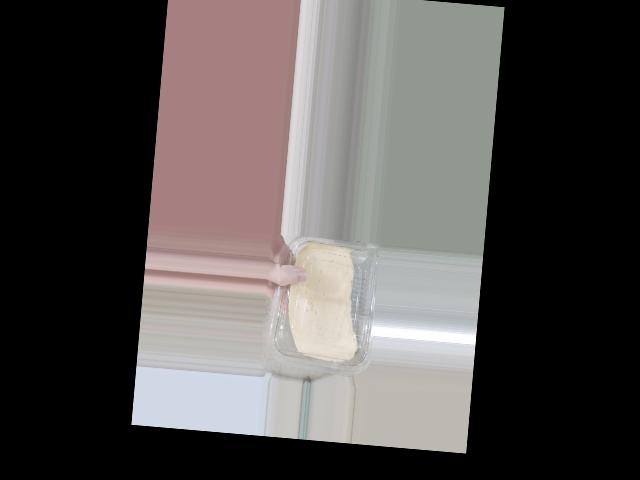cheese: (276, 234, 381, 377)
